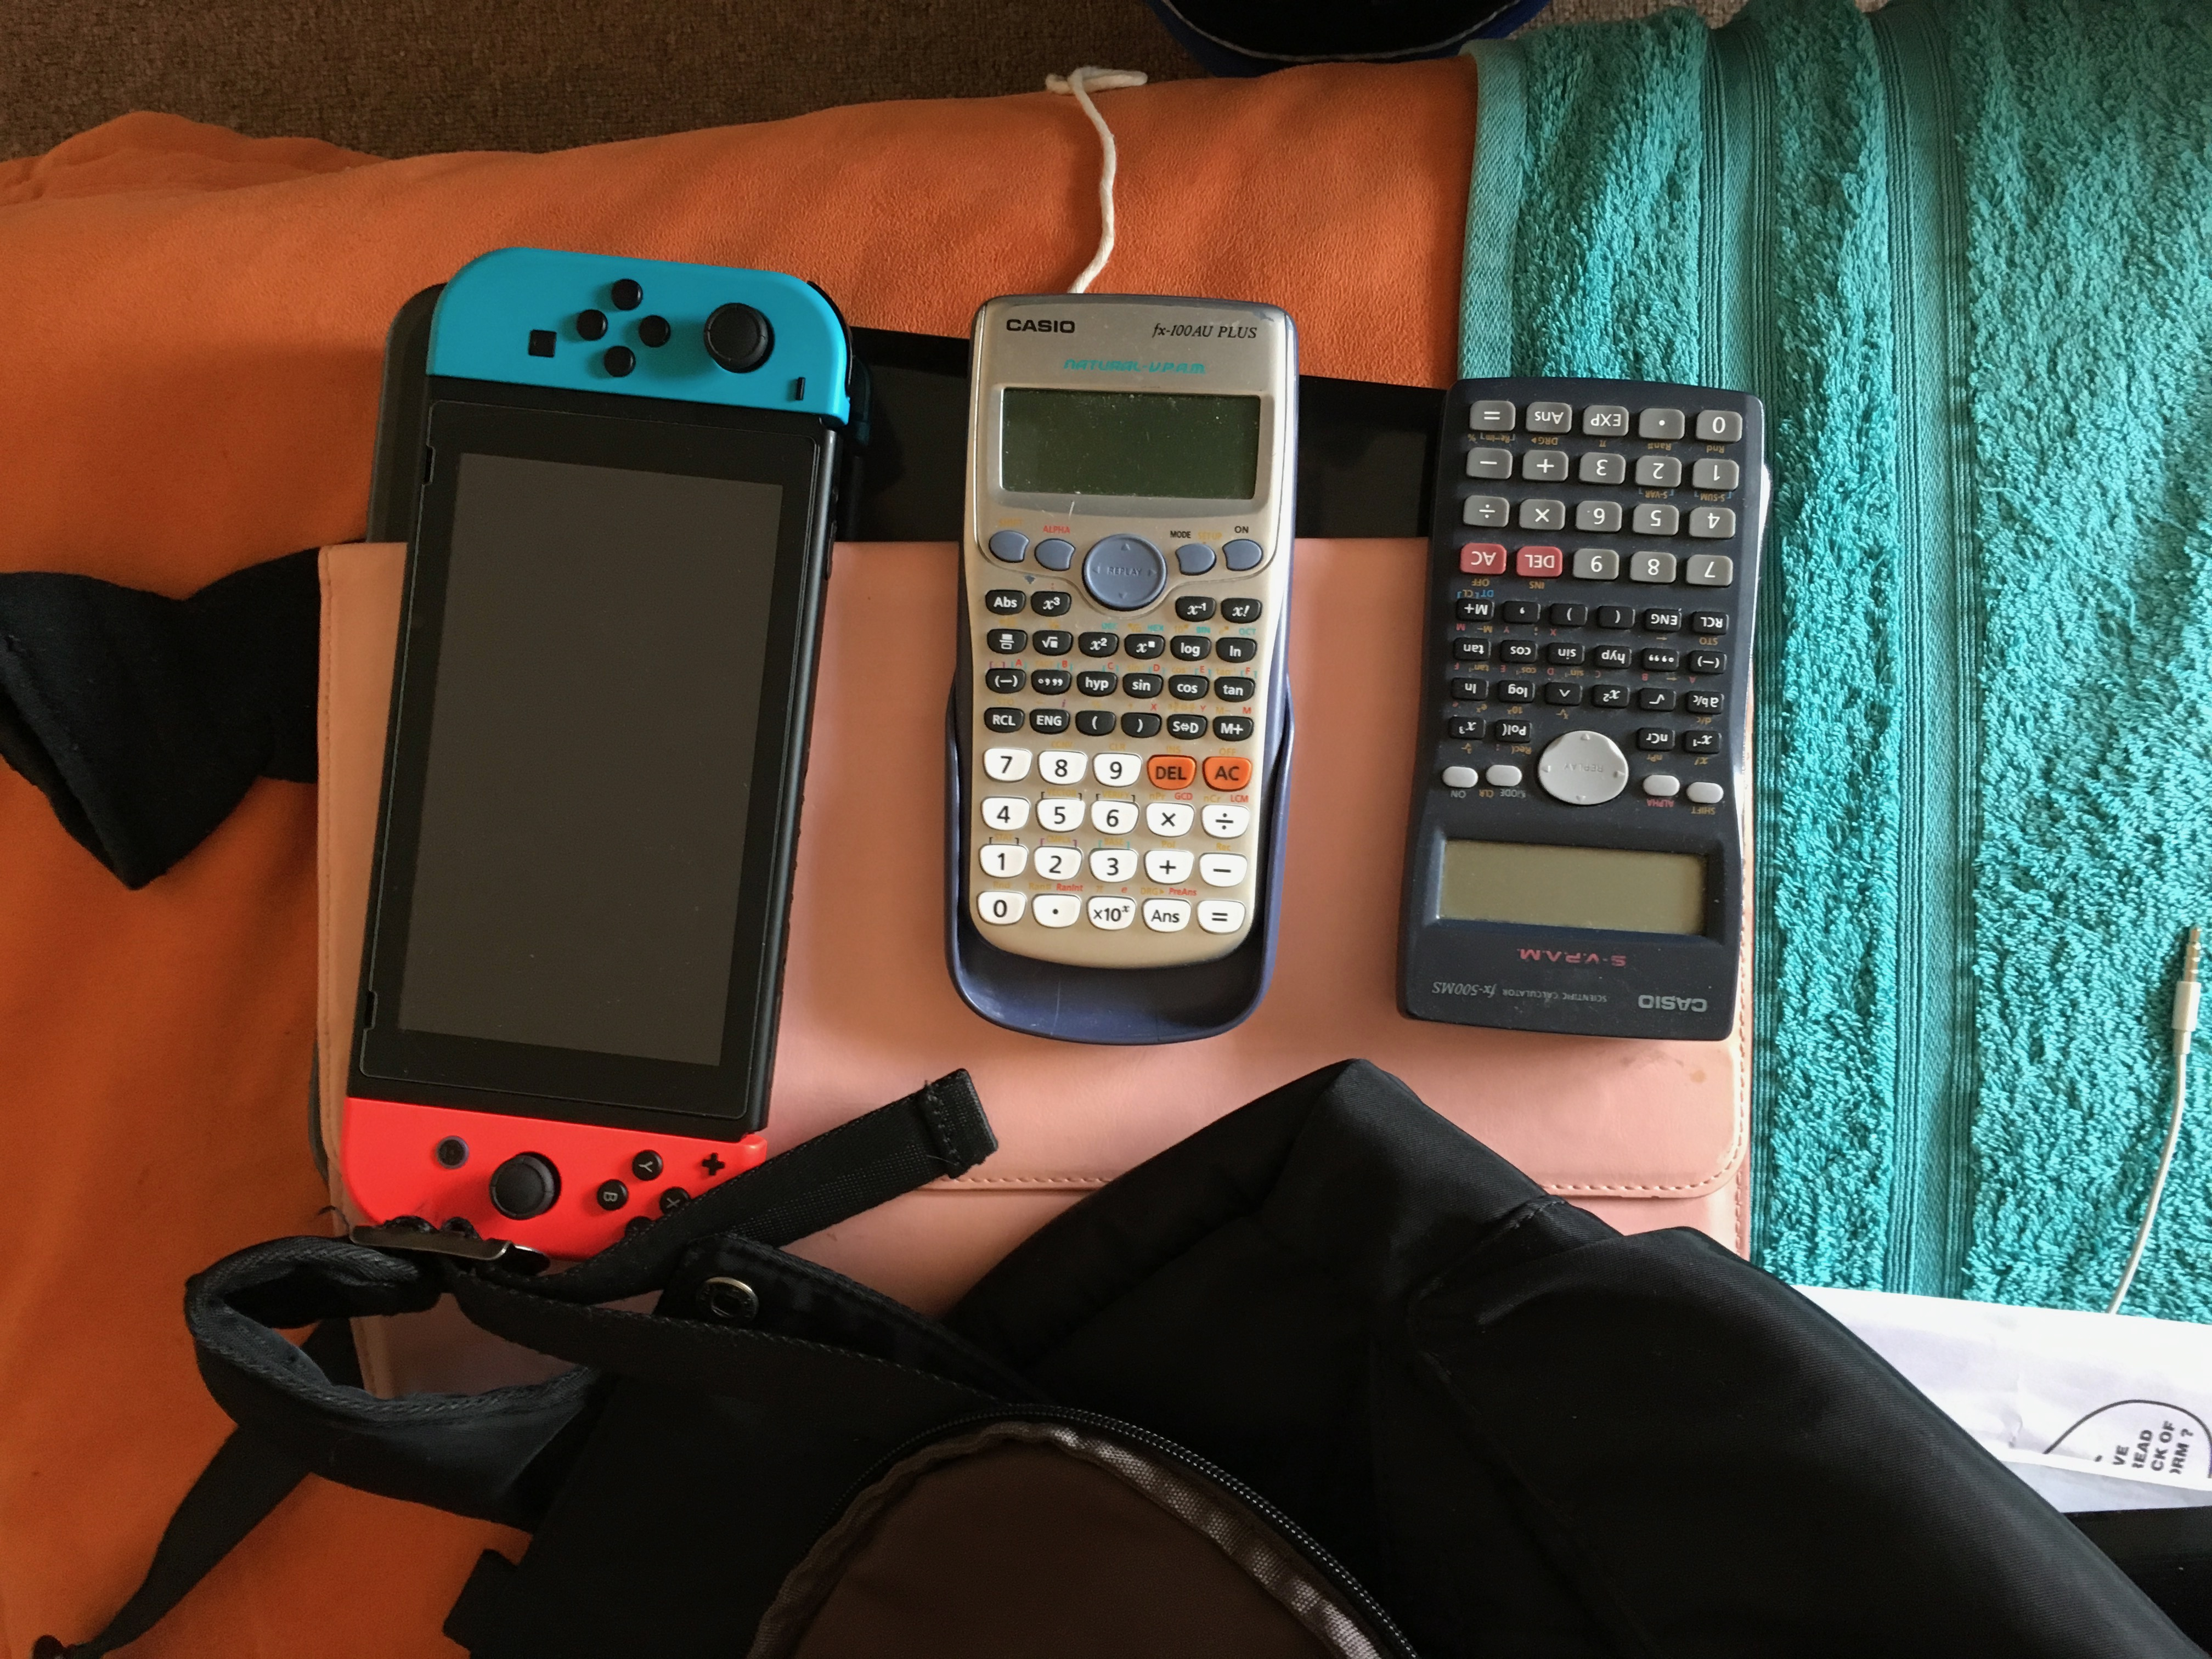Calculator: (1378, 368, 1778, 1053), (928, 268, 1308, 981)
NintendoSwitch: (310, 221, 874, 1263)
